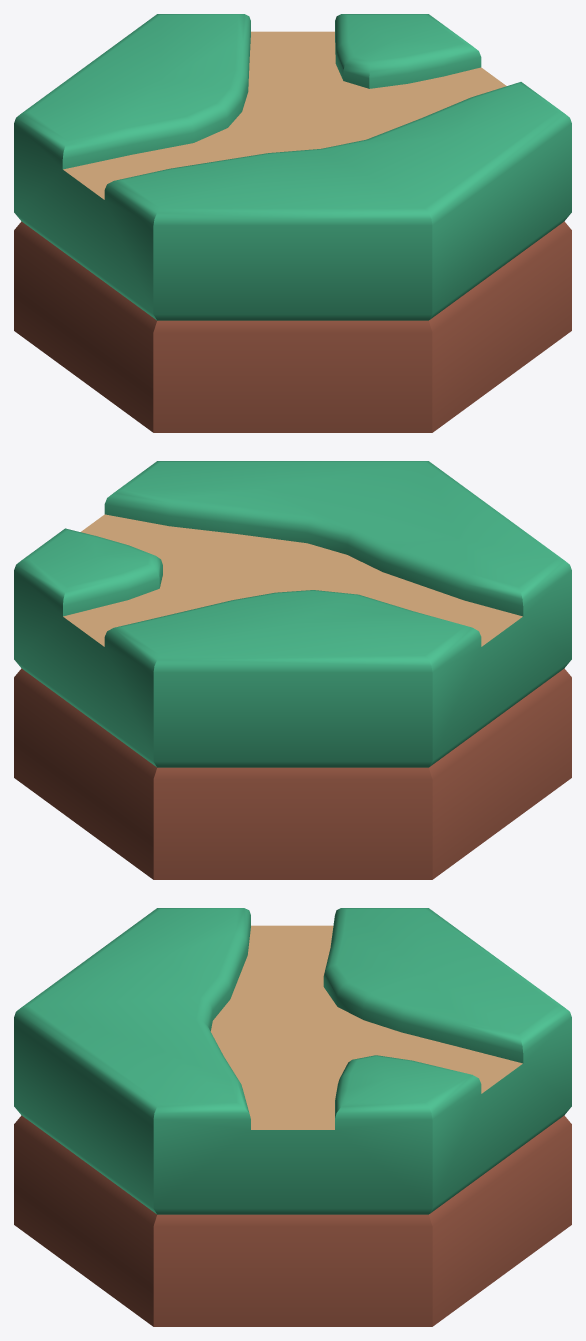
File: kaykit-hex-forest-roadf-detail.glb
The picture shows the model from 3 angles, top to bottom: view 1: azimuth 30°, elevation 25°; view 2: azimuth 150°, elevation 25°; view 3: azimuth 270°, elevation 25°; orthographic projection.
Visible parts, largest first — view 1: hex_forest_roadF_detail; view 2: hex_forest_roadF_detail; view 3: hex_forest_roadF_detail.
Boxes of the visible parts, bbox=[...] form: hex_forest_roadF_detail: bbox=[14, 14, 571, 432]; hex_forest_roadF_detail: bbox=[14, 461, 571, 879]; hex_forest_roadF_detail: bbox=[14, 908, 571, 1326].
Size of the model in its own units: 2 by 1 by 2.31.
